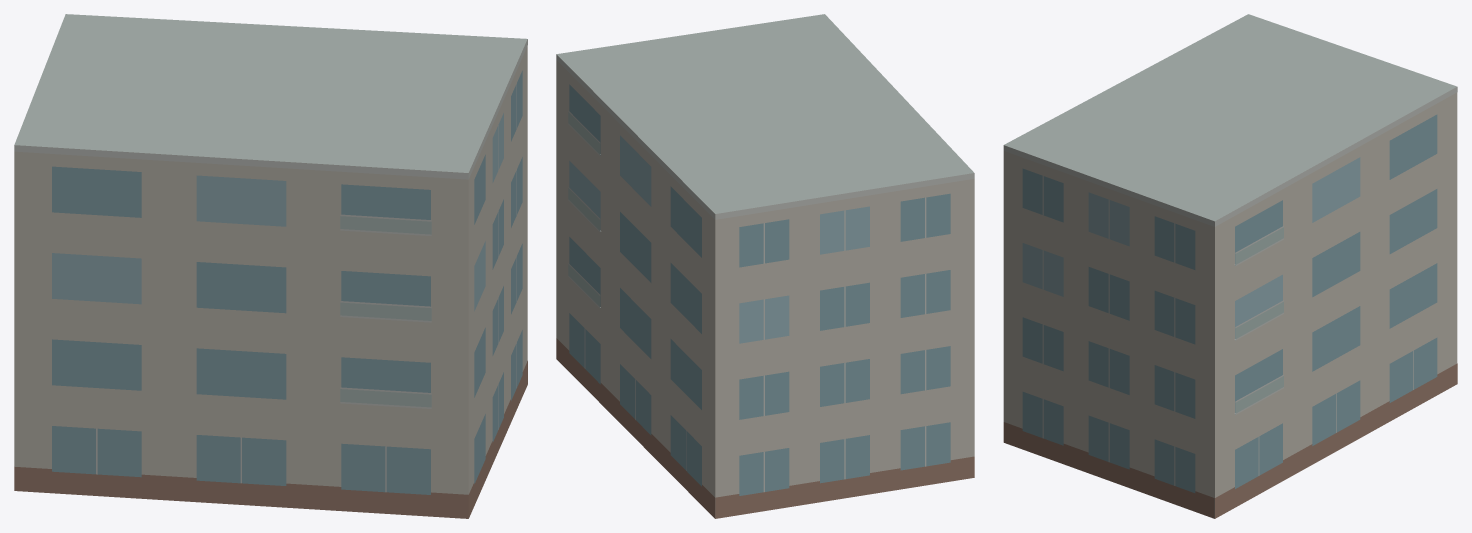
File: survey-upis-32760651.glb
3 views of the same model, side by side, from view 1: azimuth 30°, elevation 25°; view 2: azimuth 150°, elevation 25°; view 3: azimuth 270°, elevation 25° (orthographic). The views are drawn at different scales.
Parts seen in each view (by area): view 1: survey-upis-32760651.tmp; view 2: survey-upis-32760651.tmp; view 3: survey-upis-32760651.tmp.
Part boxes in pixels (x1,y1,x2,y2): survey-upis-32760651.tmp: [14, 14, 527, 518]; survey-upis-32760651.tmp: [556, 14, 974, 518]; survey-upis-32760651.tmp: [1003, 14, 1457, 518].
Size of the model in its own units: 19.29 by 12.9 by 17.84.
